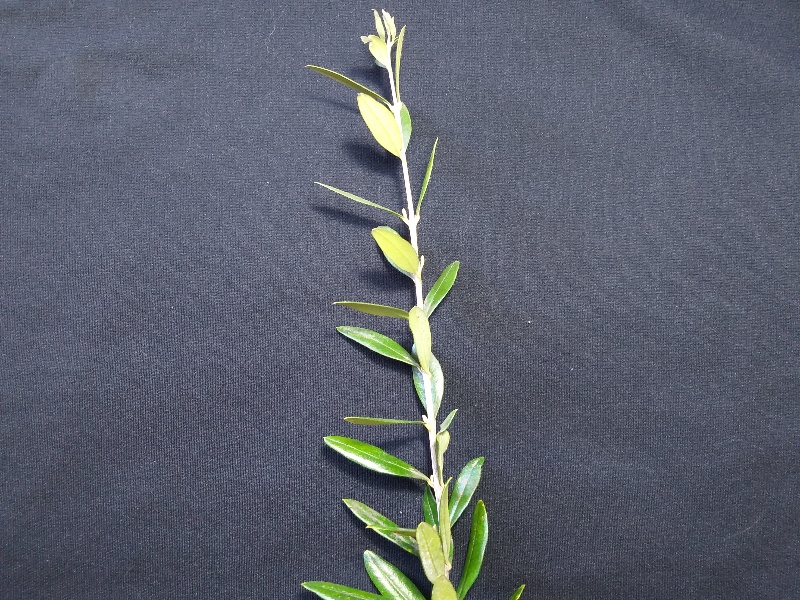yema: (412, 466, 473, 503), (418, 554, 473, 584), (391, 201, 435, 237), (408, 409, 452, 444), (409, 346, 443, 391), (373, 94, 417, 124), (369, 46, 414, 75), (400, 264, 439, 292)
